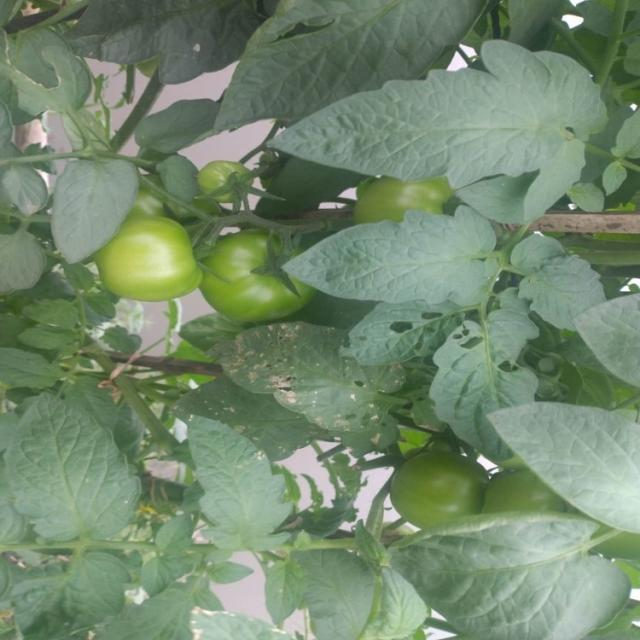tomato: (102, 217, 229, 324), (194, 225, 308, 328), (392, 430, 478, 538), (347, 171, 454, 226), (481, 457, 565, 525), (199, 148, 255, 207)
